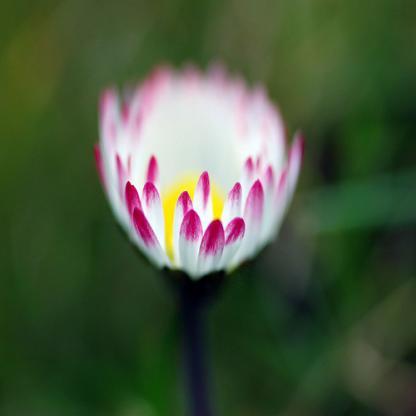ASTER: (72, 23, 331, 311)
